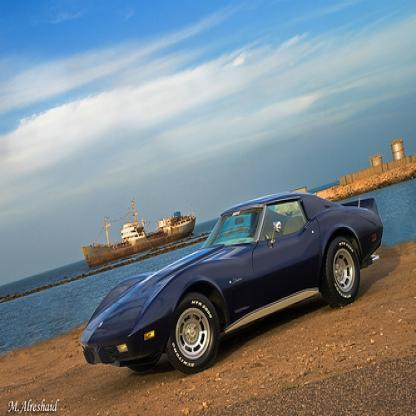car: (78, 188, 387, 377)
